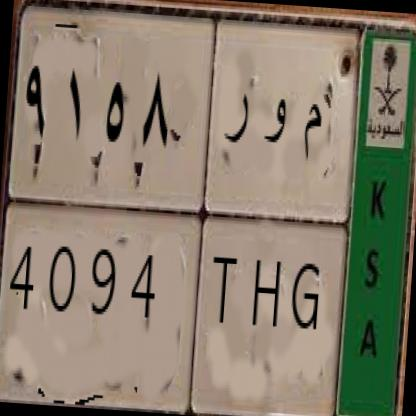english: (0, 196, 350, 415)
